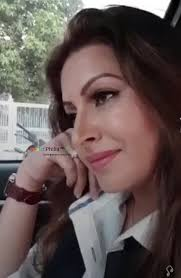n.sharp: (71, 104, 100, 143)
